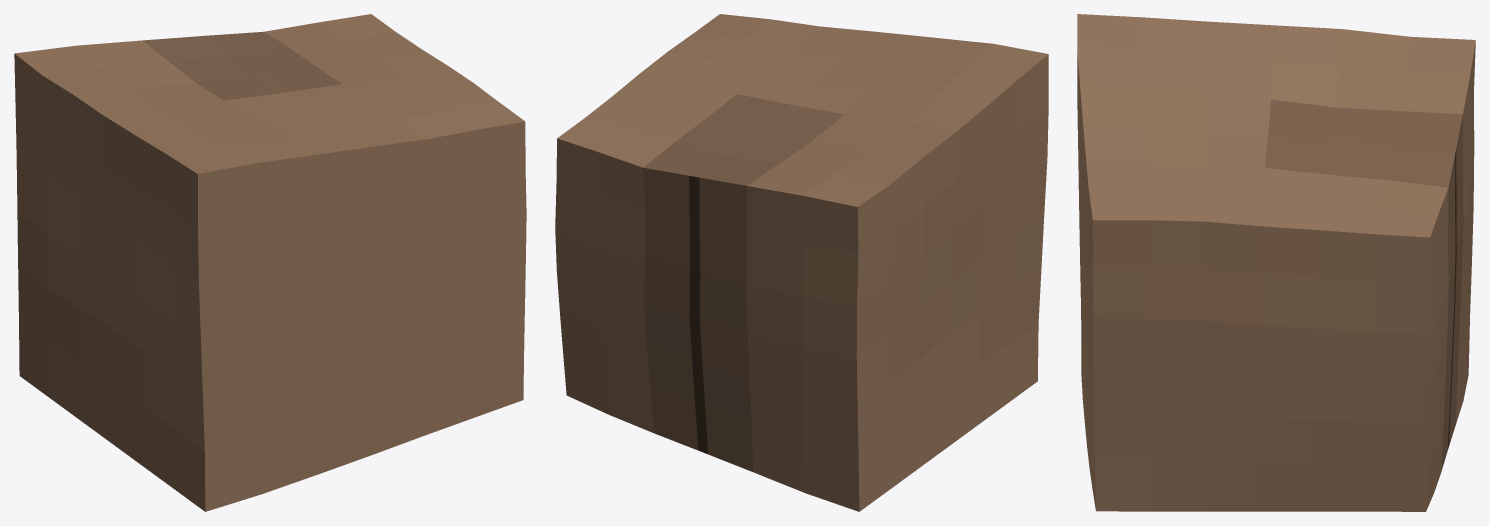
File: carton1.glb
3 views of the same model, side by side, from view 1: azimuth 30°, elevation 25°; view 2: azimuth 150°, elevation 25°; view 3: azimuth 270°, elevation 25° (orthographic). The views are drawn at different scales.
Visible parts, largest first — view 1: Cube.011; view 2: Cube.011; view 3: Cube.011.
Boxes of the visible parts, x1,y1,x2,y2 form: Cube.011: (14, 14, 526, 511); Cube.011: (555, 14, 1048, 511); Cube.011: (1077, 14, 1475, 511).
Size of the model in its own units: 2.43 by 2.31 by 2.34.
